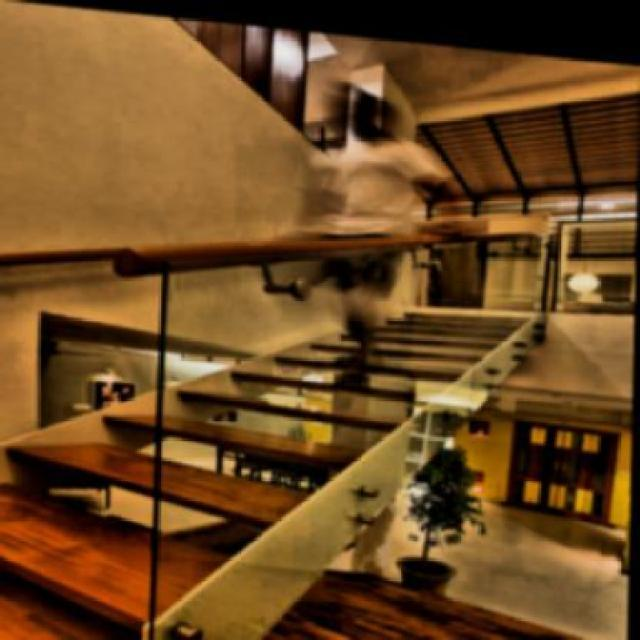stair: (0, 194, 403, 638)
